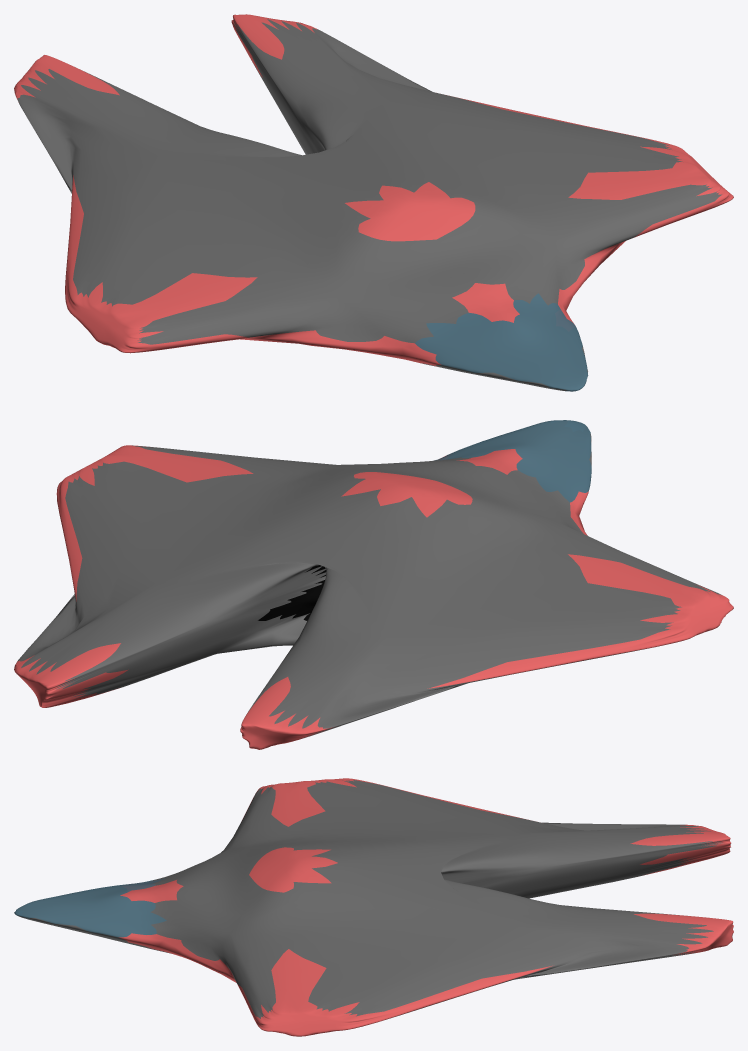
The model's file is FighterRed.fbx.
The picture shows the model from 3 angles, top to bottom: view 1: azimuth 30°, elevation 25°; view 2: azimuth 150°, elevation 25°; view 3: azimuth 270°, elevation 25°; orthographic projection. The views are drawn at different scales.
Visible parts, largest first — view 1: FighterRed:pCube1; view 2: FighterRed:pCube1; view 3: FighterRed:pCube1.
Boxes of the visible parts, box(x1,y1,x2,y2) form: FighterRed:pCube1: box(14, 14, 733, 391); FighterRed:pCube1: box(14, 420, 733, 749); FighterRed:pCube1: box(14, 778, 733, 1036).
Bounding box in the file's own units: 4.78 × 0.8125 × 5.8.
